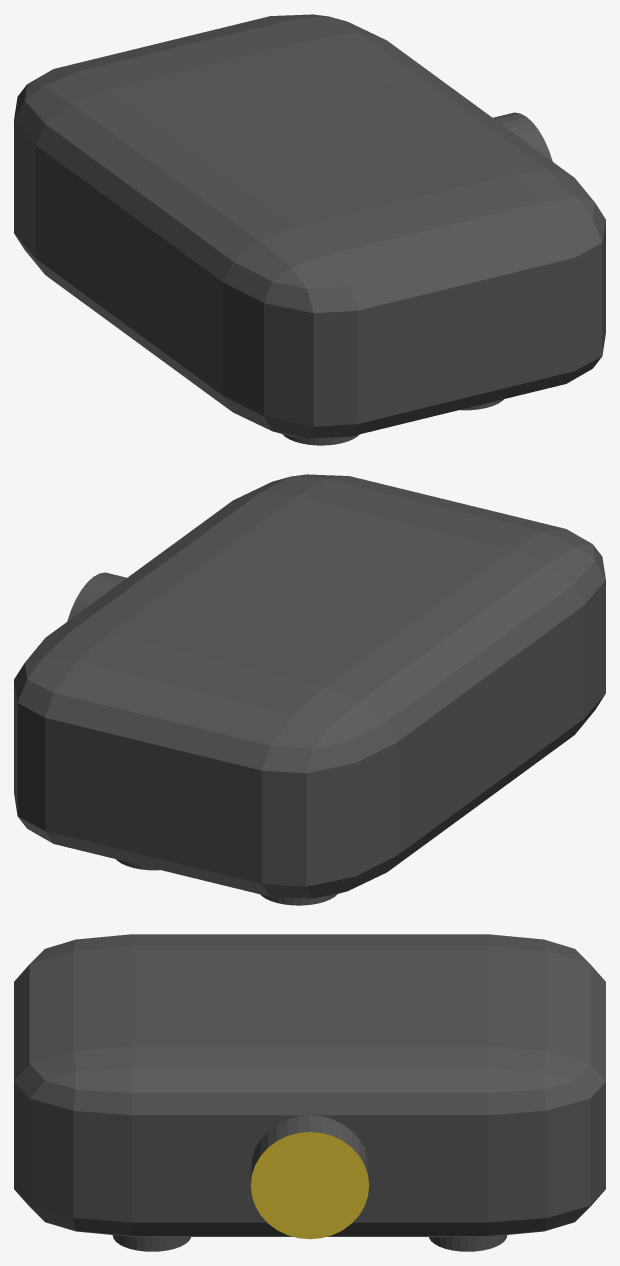
File: projector.fbx
3 views of the same model, one above another, from view 1: azimuth 30°, elevation 25°; view 2: azimuth 150°, elevation 25°; view 3: azimuth 270°, elevation 25° (orthographic). The views are drawn at different scales.
Visible parts, largest first — view 1: projector; view 2: projector; view 3: projector.
Boxes of the visible parts, x1=… form: projector: x1=14, y1=14, x2=605, y2=445; projector: x1=14, y1=474, x2=605, y2=905; projector: x1=14, y1=934, x2=605, y2=1251.
Bounding box in the file's own units: 220 × 115 × 300.
